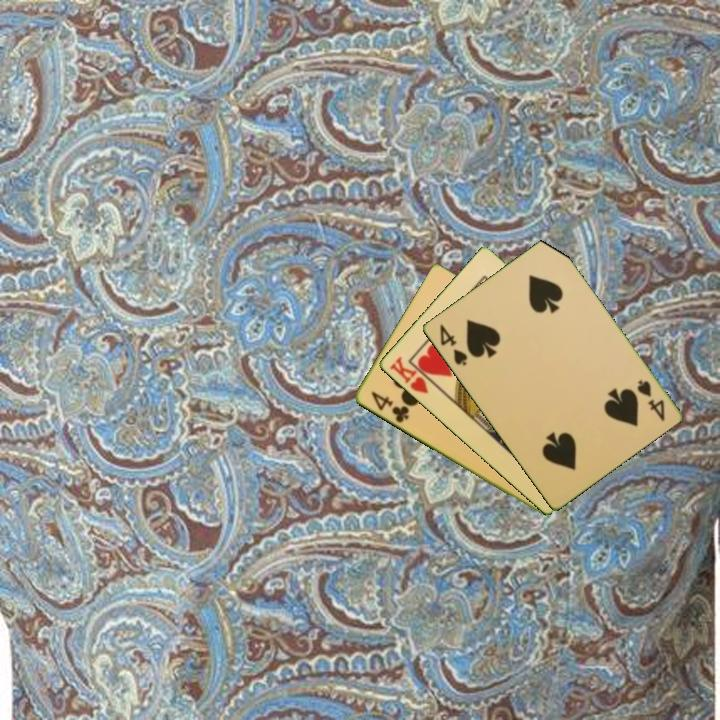4c: (367, 388, 412, 426)
4s: (435, 321, 470, 369), (633, 376, 667, 424)
Kh: (385, 353, 439, 397)
